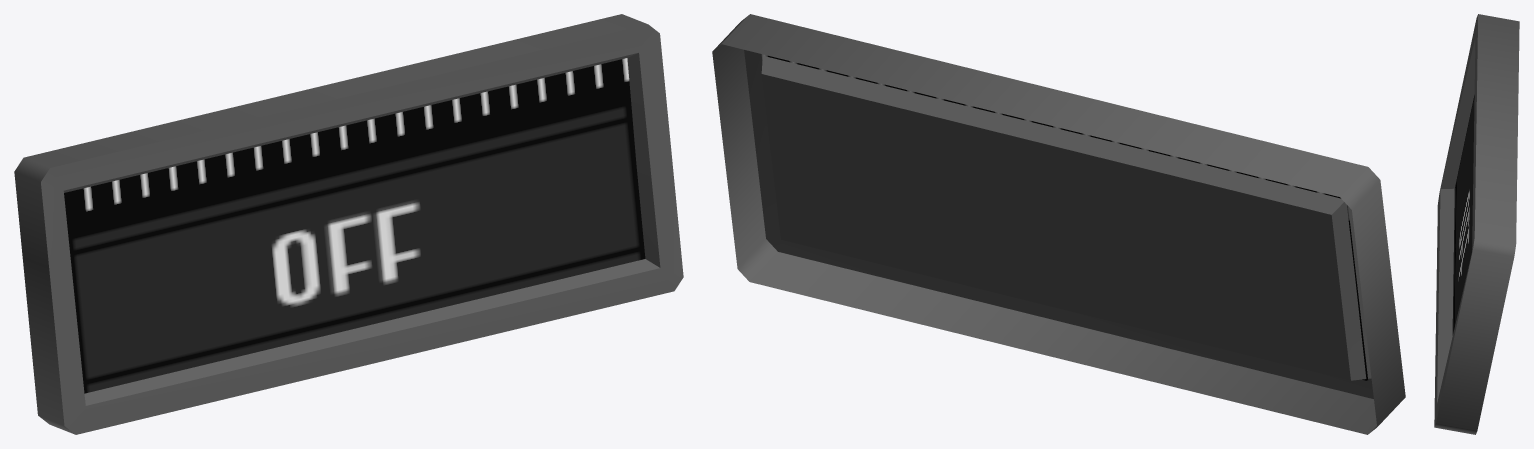
File: SM_Dash_RadioScreen 1.FBX
3 renders of one model, left to right at view 1: azimuth 30°, elevation 25°; view 2: azimuth 150°, elevation 25°; view 3: azimuth 270°, elevation 25°, orthographic. The views are drawn at different scales.
Parts seen in each view (by area): view 1: RadioScreen, Radio; view 2: Radio, RadioScreen; view 3: Radio, RadioScreen.
Part boxes in pixels (left/top/right/bottom): RadioScreen: left=64, top=58, right=645, bottom=393; Radio: left=14, top=14, right=683, bottom=434; Radio: left=712, top=14, right=1405, bottom=434; RadioScreen: left=761, top=54, right=1368, bottom=380; Radio: left=1434, top=14, right=1519, bottom=434; RadioScreen: left=1452, top=95, right=1474, bottom=335.
Size of the model in its own units: 107 by 42.6 by 16.66.
